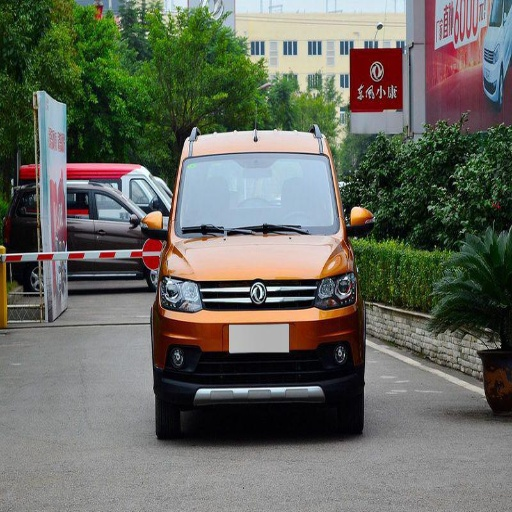front_bumper: (156, 279, 358, 405)
front_left_light: (317, 269, 356, 307)
front_right_light: (158, 272, 204, 312)
hood: (166, 235, 350, 282)
